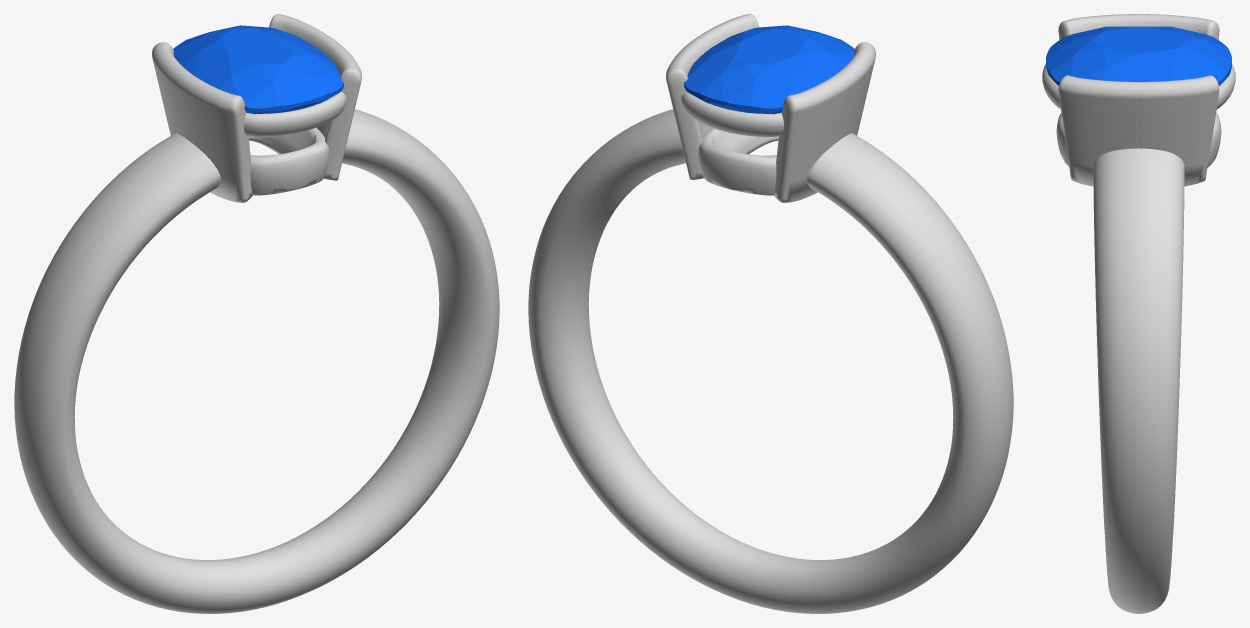
File: bluesapphire-cushion-platinum-halfmoonbezel-taperedband-nosidestones.glb
The picture shows the model from 3 angles, left to right: view 1: azimuth 30°, elevation 25°; view 2: azimuth 150°, elevation 25°; view 3: azimuth 270°, elevation 25°; orthographic projection.
Visible parts, largest first — view 1: metal.003, stone; view 2: metal.003, stone; view 3: metal.003, stone.
Part boxes in pixels (<box>): metal.003: <box>14,14,499,613</box>; stone: <box>173,25,343,114</box>; metal.003: <box>528,14,1013,613</box>; stone: <box>684,25,854,114</box>; metal.003: <box>1042,14,1235,613</box>; stone: <box>1046,26,1231,85</box>.
Size of the model in its own units: 20.5 by 23.24 by 7.42.
